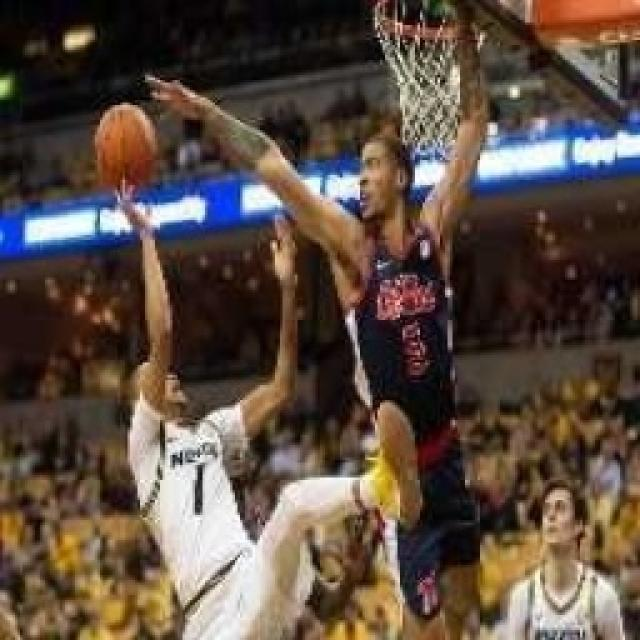rim: (90, 99, 163, 194)
